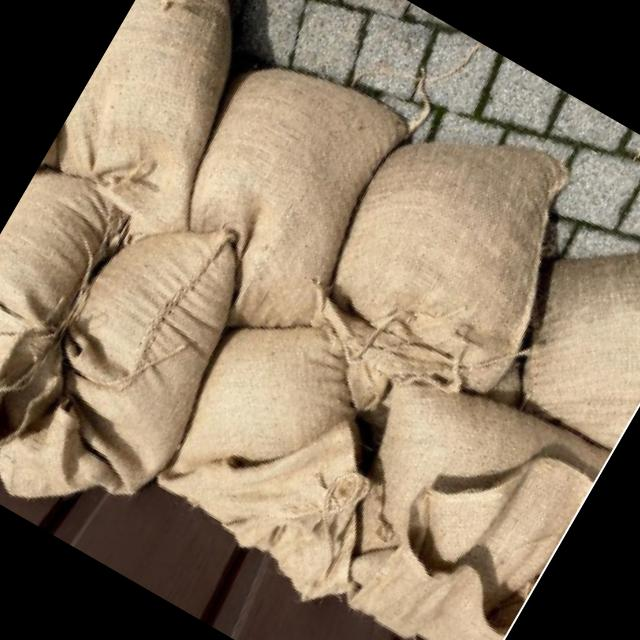KantongSemen: (136, 288, 444, 614), (0, 185, 276, 547), (268, 351, 608, 640), (152, 34, 418, 334), (39, 0, 320, 238), (480, 192, 640, 473), (0, 154, 137, 446)
